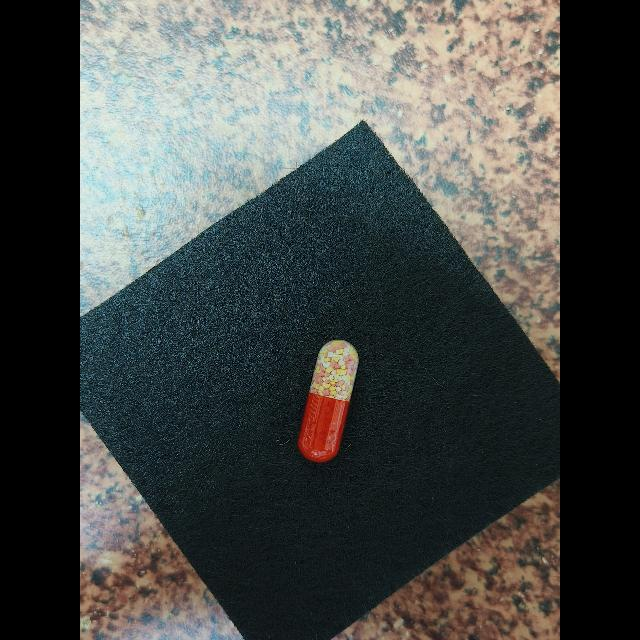Intact Capsule: (297, 340, 359, 463)
